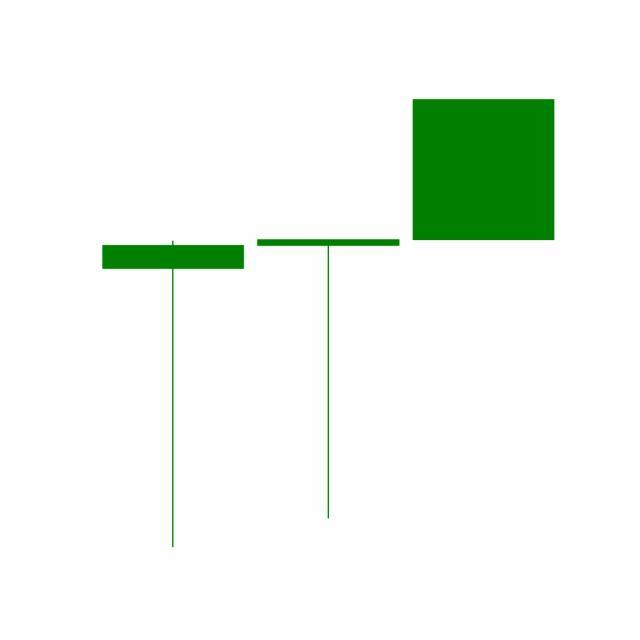Marubozu: (406, 98, 562, 242)
